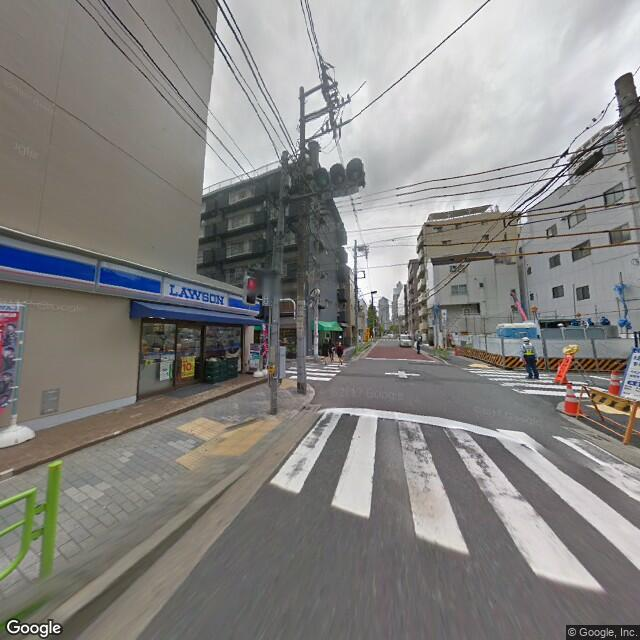lawson: (1, 229, 261, 317)
